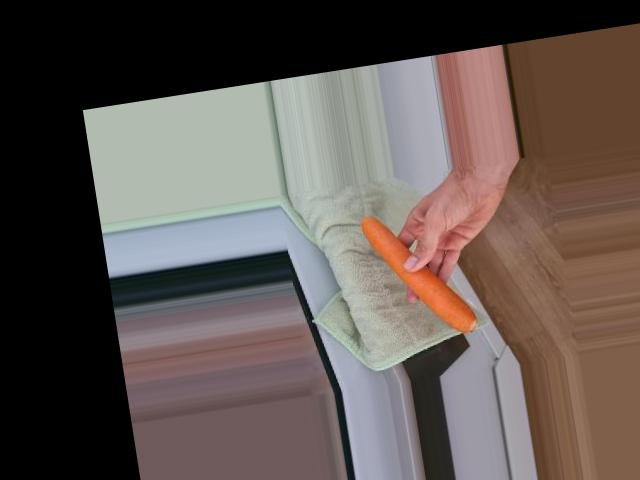carrot: (358, 201, 482, 346)
